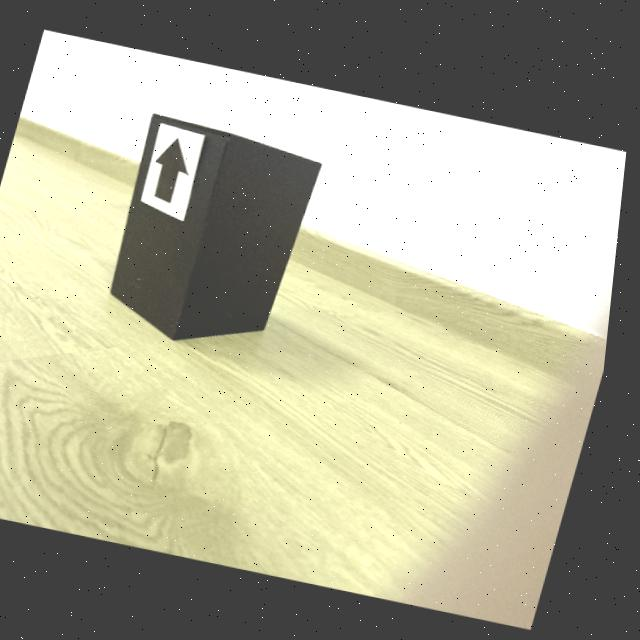UP: (158, 136, 190, 203)
